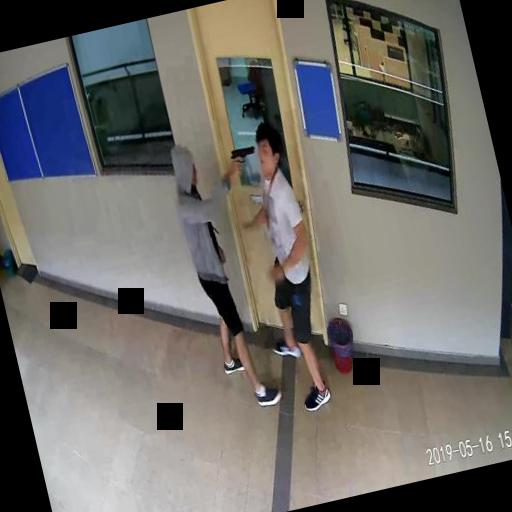Handgun: (228, 143, 258, 177)
